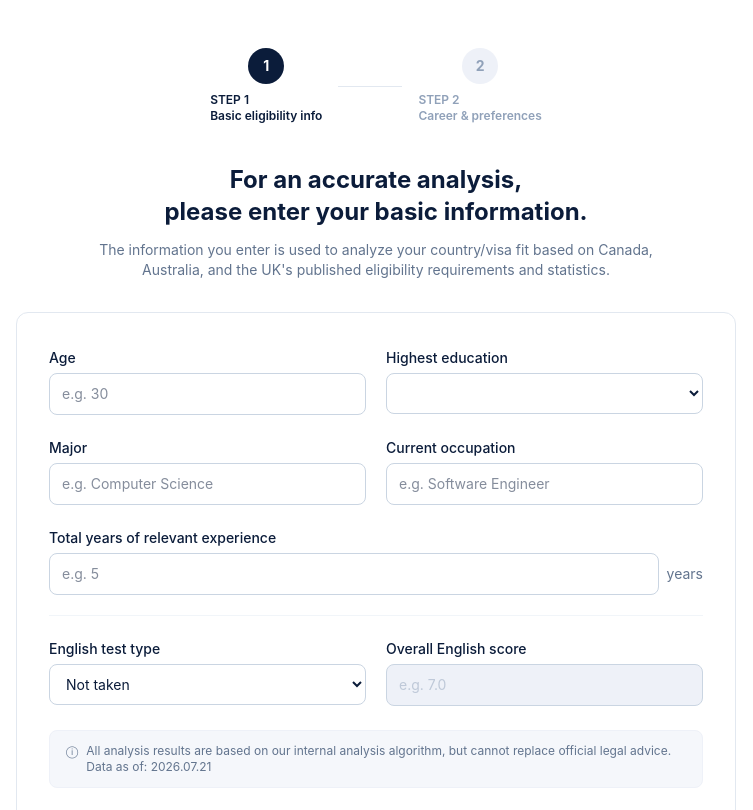
Test: AnalysisStep1View › does not navigate to step 2 when age is out of the allowed range
In the number field labelled "Age": (208, 394) top-left (49, 373), bottom-right (366, 415), type "10"
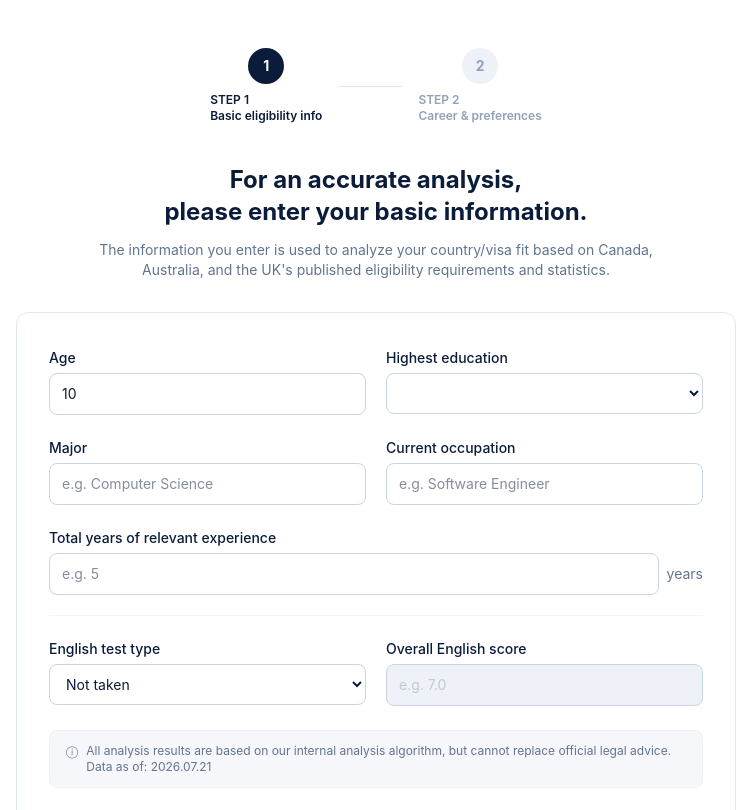
Select "Bachelor's degree" in the dropdown labelled "Highest education": (544, 394) top-left (386, 373), bottom-right (703, 414)
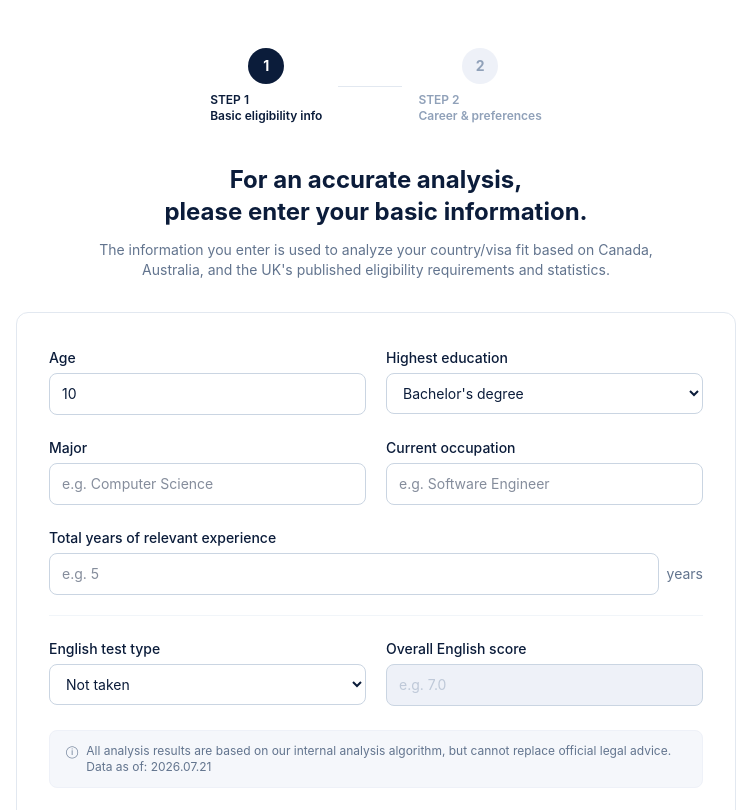
In the field labelled "Major": (208, 484) top-left (49, 463), bottom-right (366, 505), type "경영학"
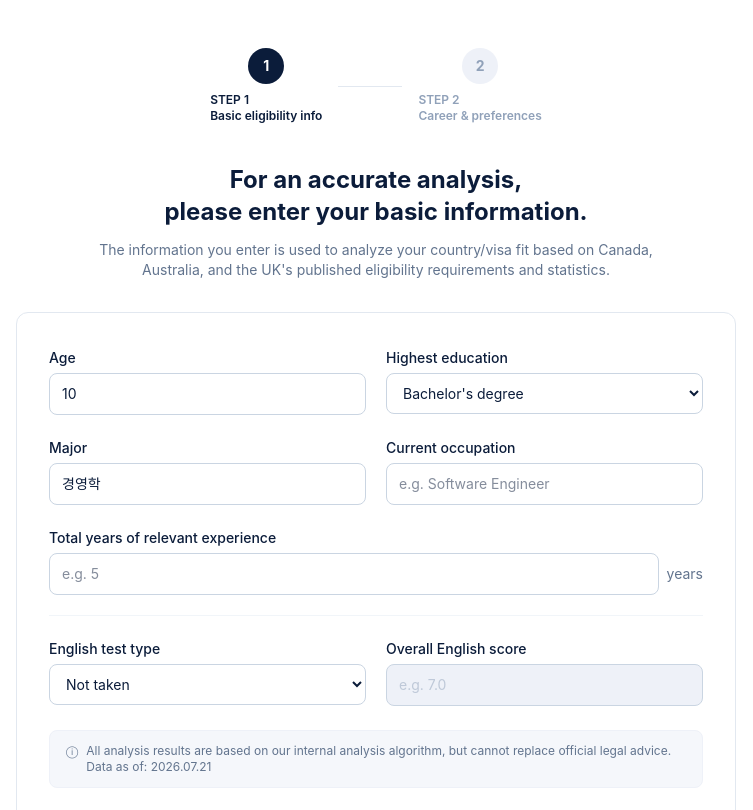
In the field labelled "Current occupation": (544, 484) top-left (386, 463), bottom-right (703, 505), type "데이터 분석가"
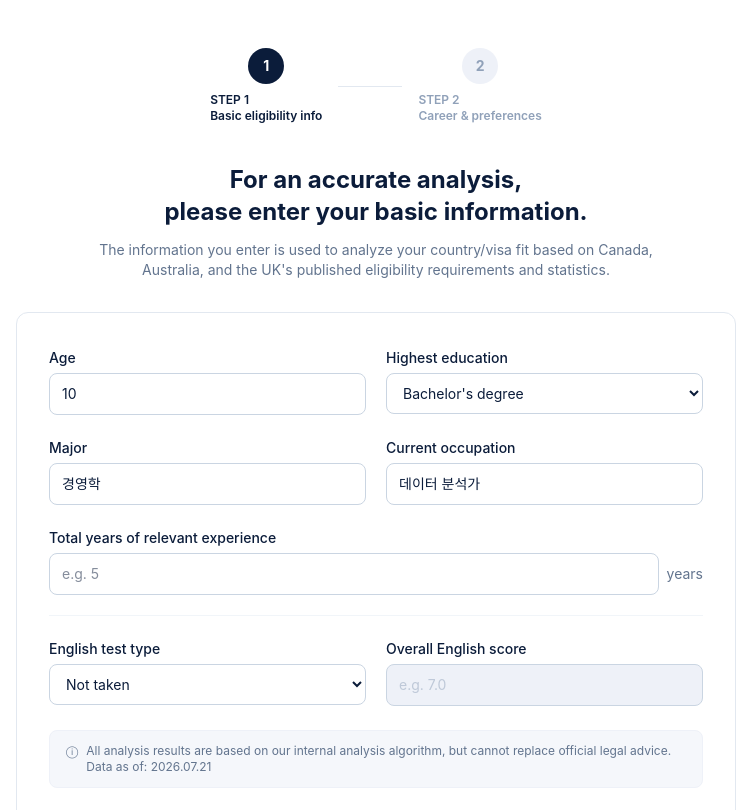
In the number field labelled "Total years of relevant experience years": (354, 574) top-left (49, 553), bottom-right (659, 595), type "6"
(page scrolled)
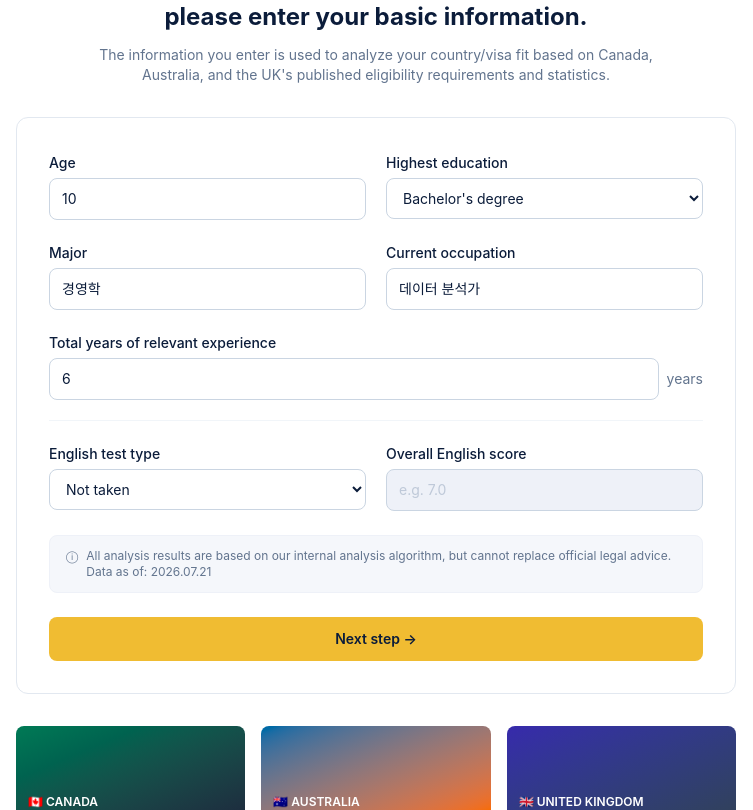
Submit the form
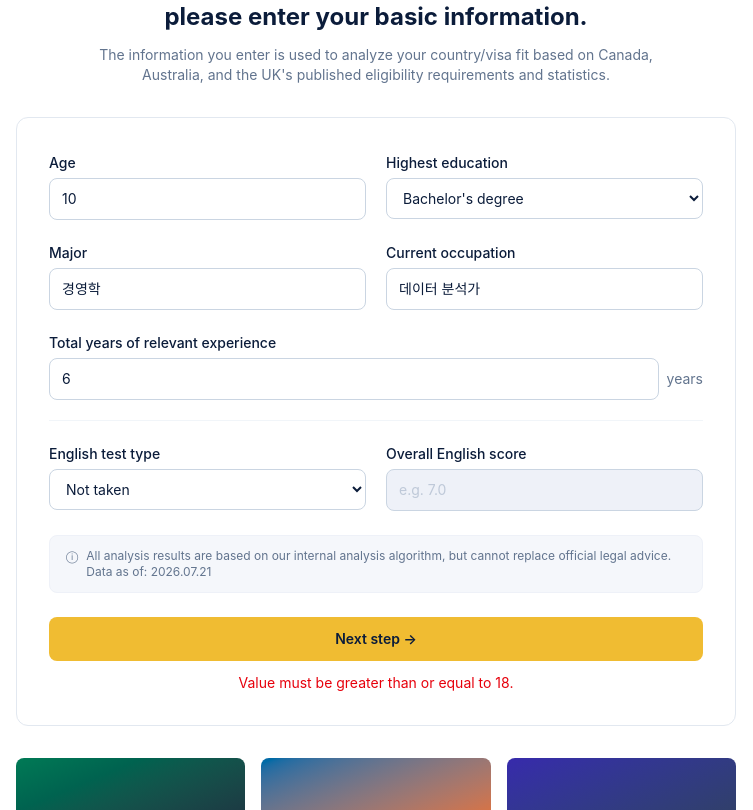
Now the text "Value must be greater than or equal to 18." is shown, box top-left (238, 674), bottom-right (513, 691)
